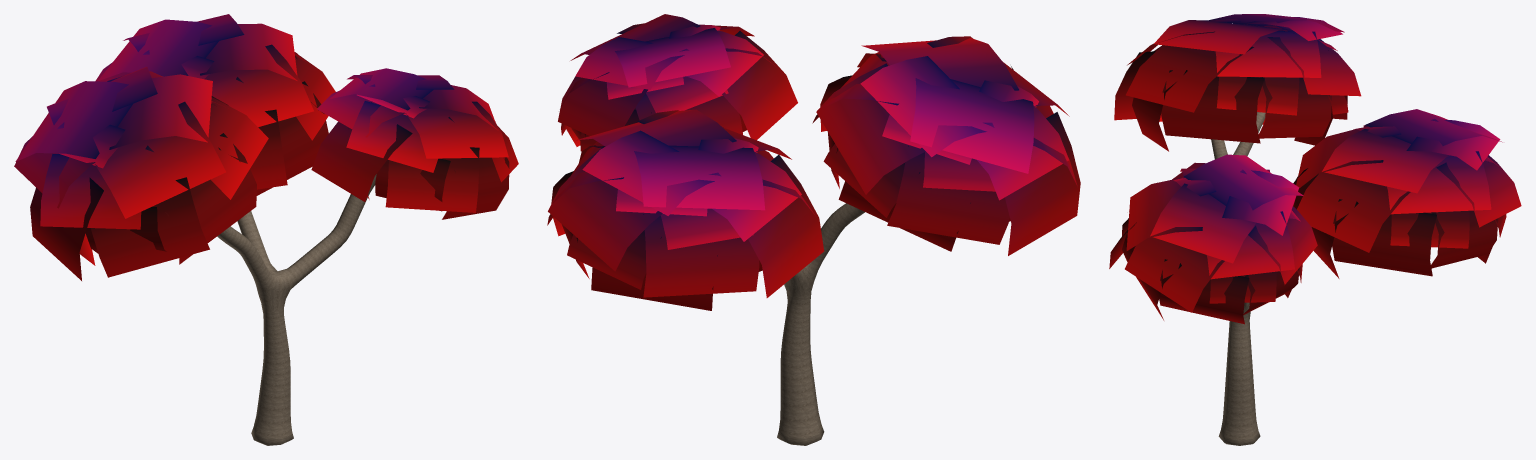
The model's file is TreeV2 Textured.fbx.
3 views of the same model, side by side, from view 1: azimuth 30°, elevation 25°; view 2: azimuth 150°, elevation 25°; view 3: azimuth 270°, elevation 25° (orthographic). The views are drawn at different scales.
Visible parts, largest first — view 1: Bush, Bush.002, Bush.001, Tronc.001; view 2: Bush, Bush.001, Bush.002, Tronc.001; view 3: Bush.001, Bush, Bush.002, Tronc.001.
Boxes of the visible parts, x1,y1,x2,y2 form: Bush: [14, 67, 268, 280]; Bush.002: [311, 68, 518, 219]; Bush.001: [95, 14, 335, 195]; Tronc.001: [217, 174, 376, 445]; Bush: [812, 36, 1080, 255]; Bush.001: [547, 109, 824, 310]; Bush.002: [558, 14, 797, 151]; Tronc.001: [777, 203, 864, 445]; Bush.001: [1293, 109, 1521, 278]; Bush: [1114, 14, 1361, 151]; Bush.002: [1109, 154, 1317, 324]; Tronc.001: [1211, 112, 1265, 445].
Bounding box in the file's own units: 1087 × 848 × 867.
